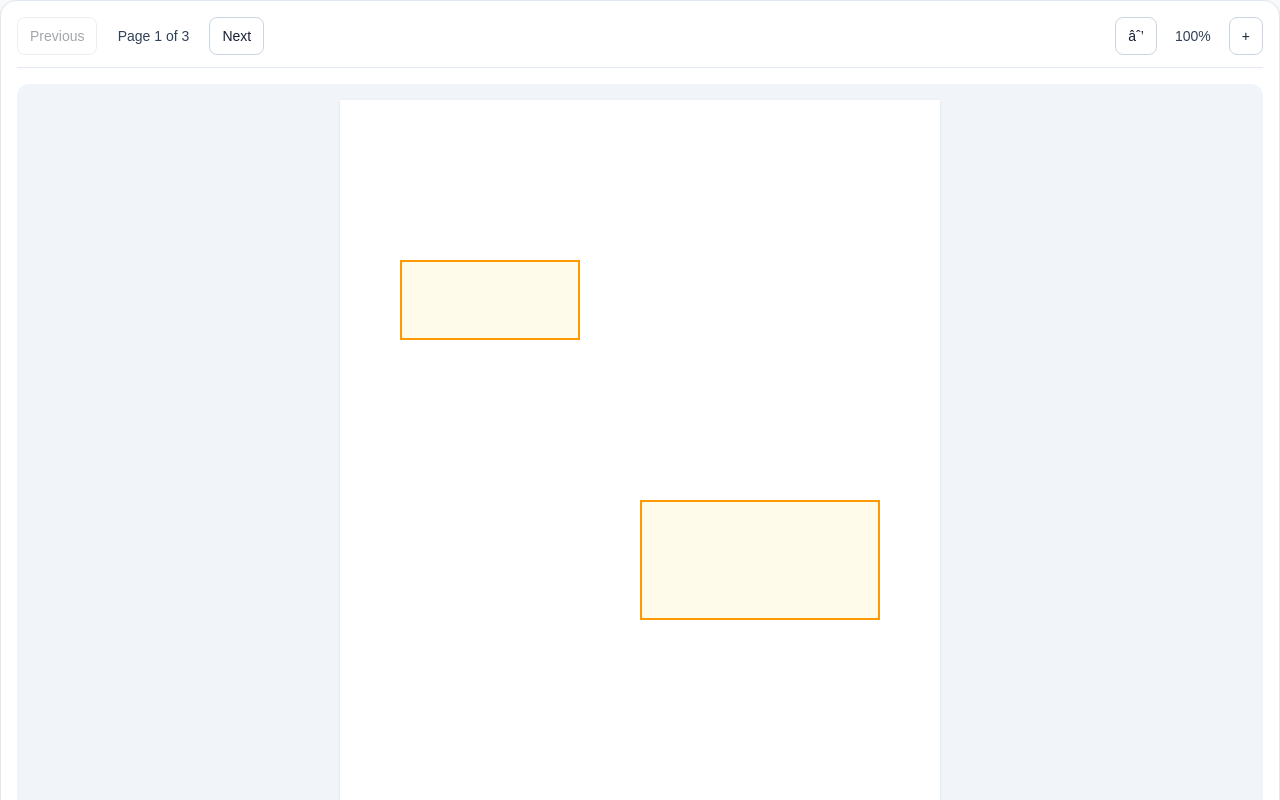
Scenario: source page viewer › zooms the canvas and overlay surface together
Click the button named "Zoom in". click: (1246, 36)
box: [1229,17,1263,55]
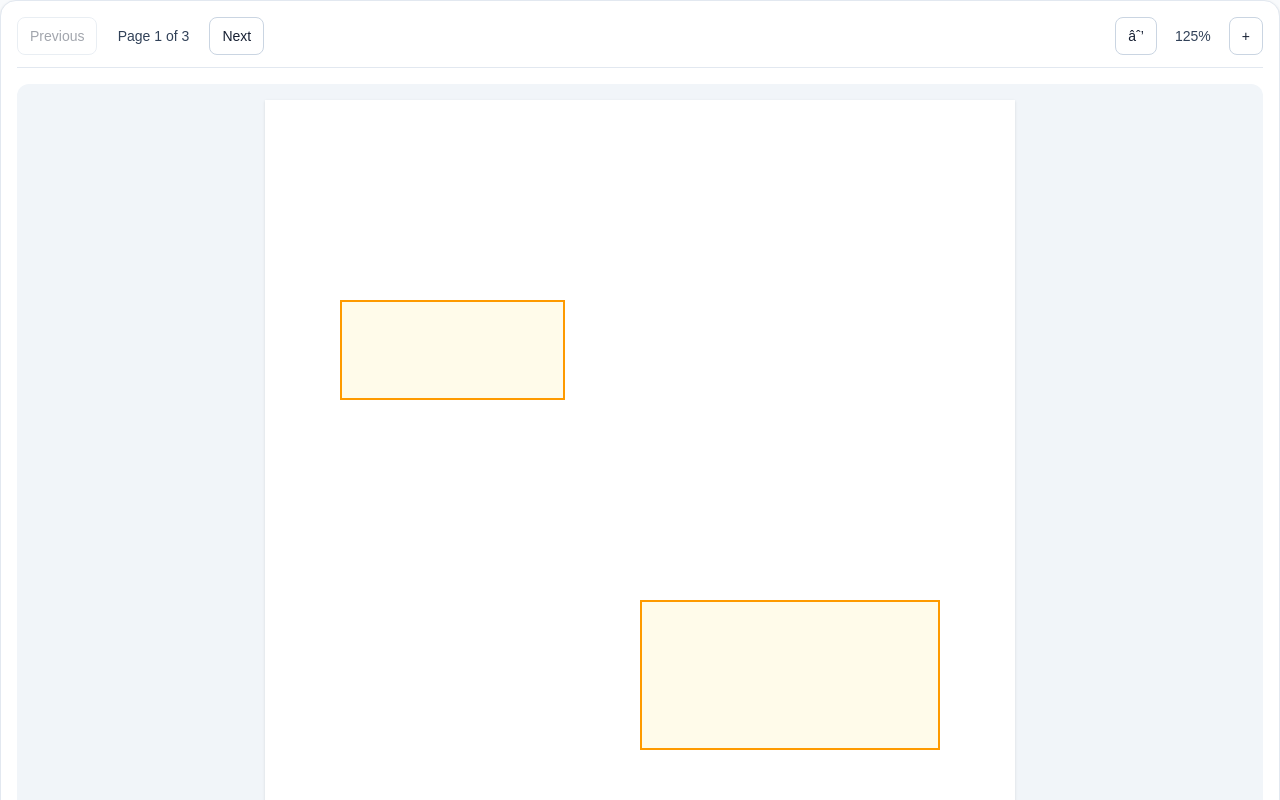
Expected: the text named "Zoom level" reads "125%", [1175,28,1211,44]
